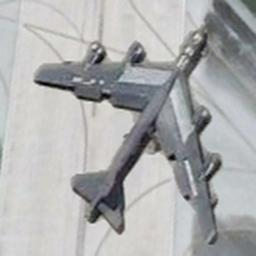Airplane: (26, 20, 228, 248)
